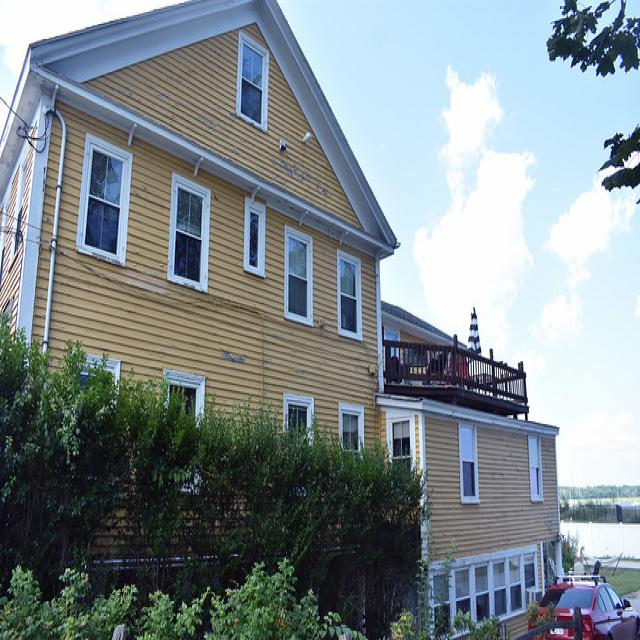Normal_building: (9, 6, 564, 633)
